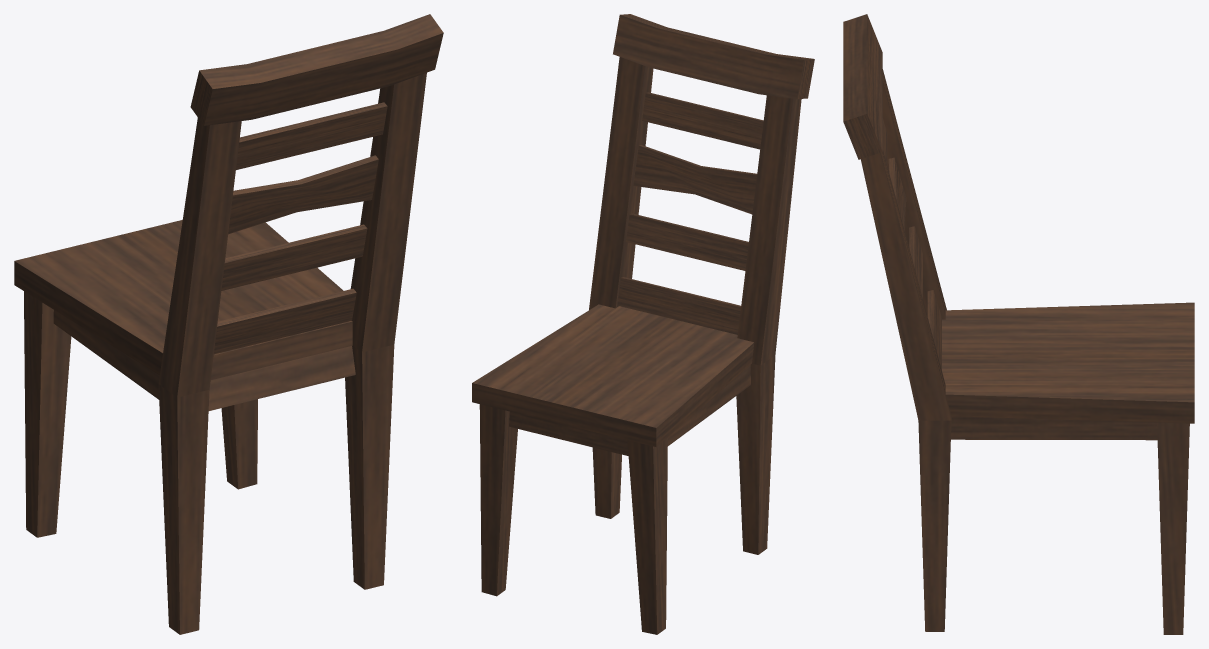
The model's file is Chair_2.fbx.
3 renders of one model, left to right at view 1: azimuth 30°, elevation 25°; view 2: azimuth 150°, elevation 25°; view 3: azimuth 270°, elevation 25°, orthographic. The views are drawn at different scales.
Parts seen in each view (by area): view 1: polySurface1523; view 2: polySurface1523; view 3: polySurface1523.
Boxes of the visible parts, left/top/right/bottom form: polySurface1523: left=14, top=14, right=443, bottom=634; polySurface1523: left=472, top=14, right=814, bottom=634; polySurface1523: left=843, top=14, right=1194, bottom=634.
Size of the model in its own units: 0.5 by 1.22 by 0.7442.
